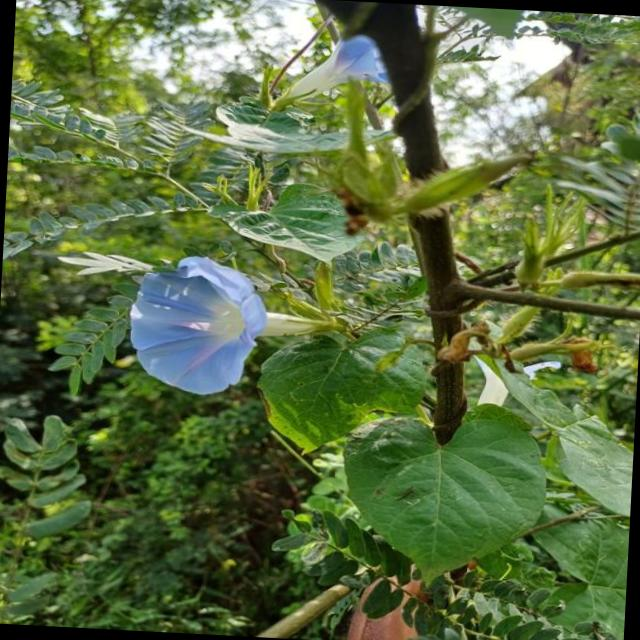ipomoea: (120, 249, 276, 402), (275, 29, 394, 116)
